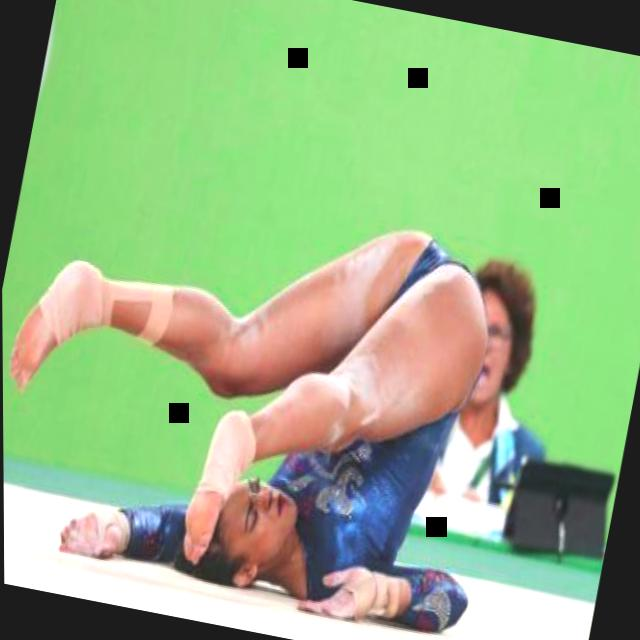Fall-Detected: (1, 108, 563, 640)
